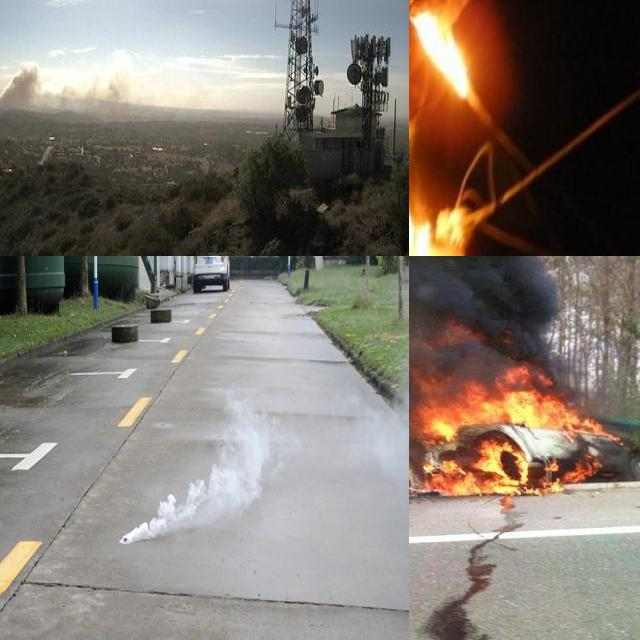fire: (409, 337, 618, 498), (409, 0, 483, 104), (409, 199, 474, 256)
smoke: (118, 390, 300, 543), (409, 256, 559, 380), (338, 335, 409, 480), (0, 55, 140, 115)
